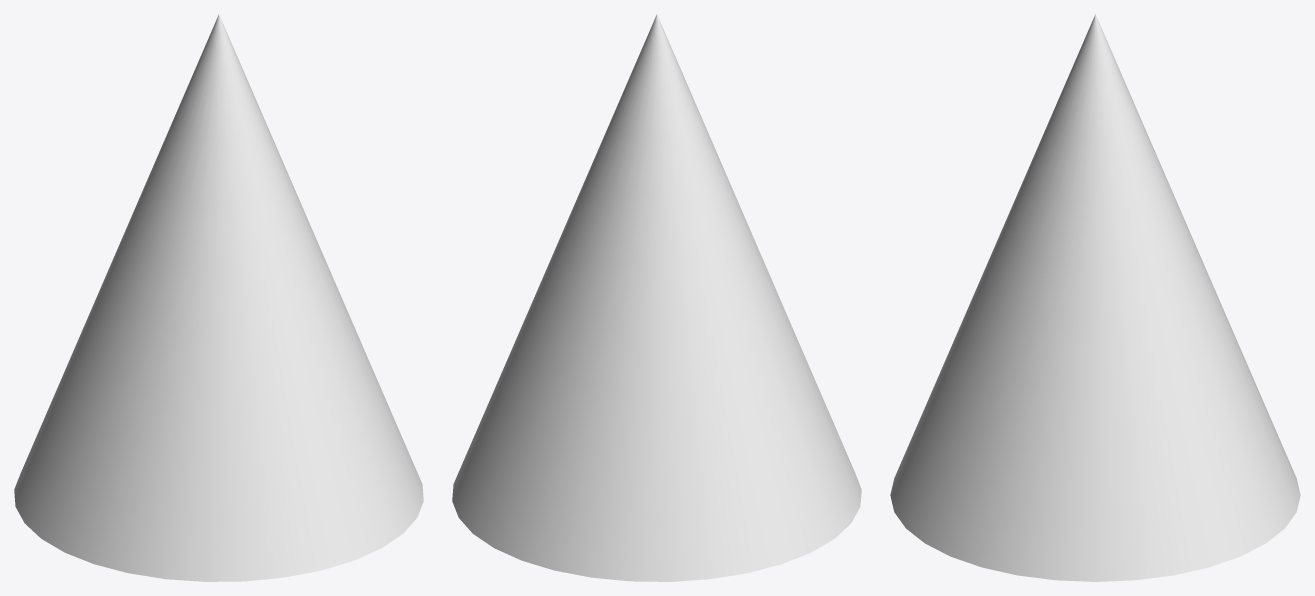
File: ConeMeshHD.fbx
The picture shows the model from 3 angles, left to right: view 1: azimuth 30°, elevation 25°; view 2: azimuth 150°, elevation 25°; view 3: azimuth 270°, elevation 25°; orthographic projection.
Parts seen in each view (by area): view 1: Cone001; view 2: Cone001; view 3: Cone001.
Boxes of the visible parts, box(x1,y1,x2,y2) form: Cone001: box(14, 14, 423, 581); Cone001: box(452, 14, 861, 581); Cone001: box(890, 14, 1300, 581).
Size of the model in its own units: 1139 by 1474 by 1139.
